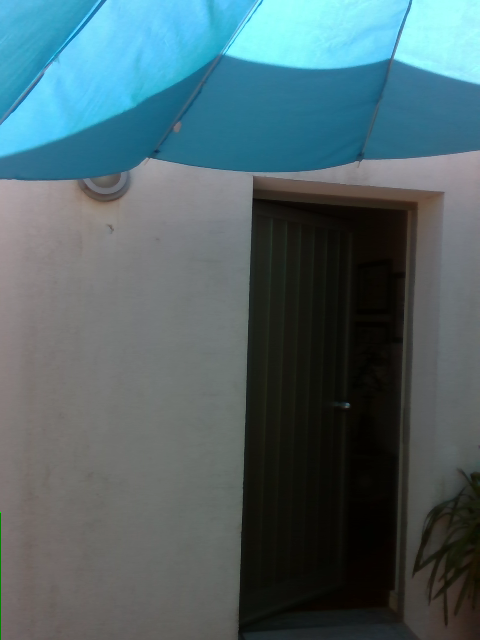semi: (234, 175, 447, 635)
